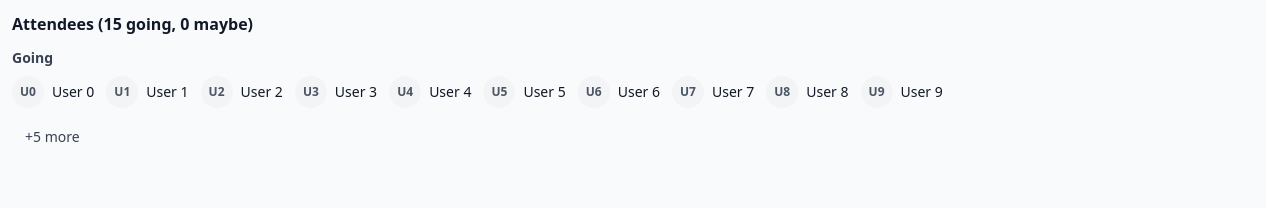
Test: AttendeeList › should limit displayed attendees
Expected: the text "+5 more" is shown, [25,127,80,147]
Click the button "+5 more" at (52, 137), box [12,120,93,154]
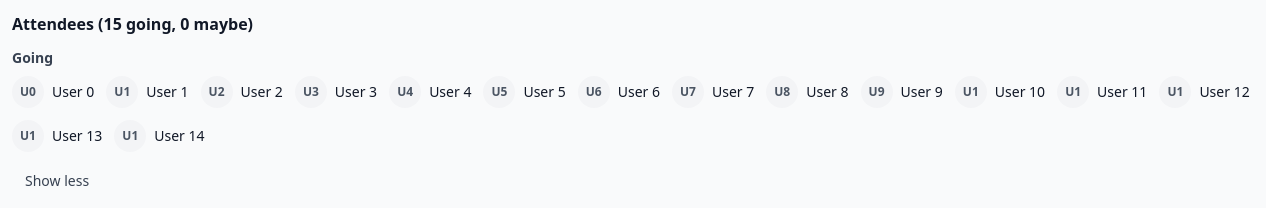
Expected: the text "Show less" is shown, [25,171,89,191]
